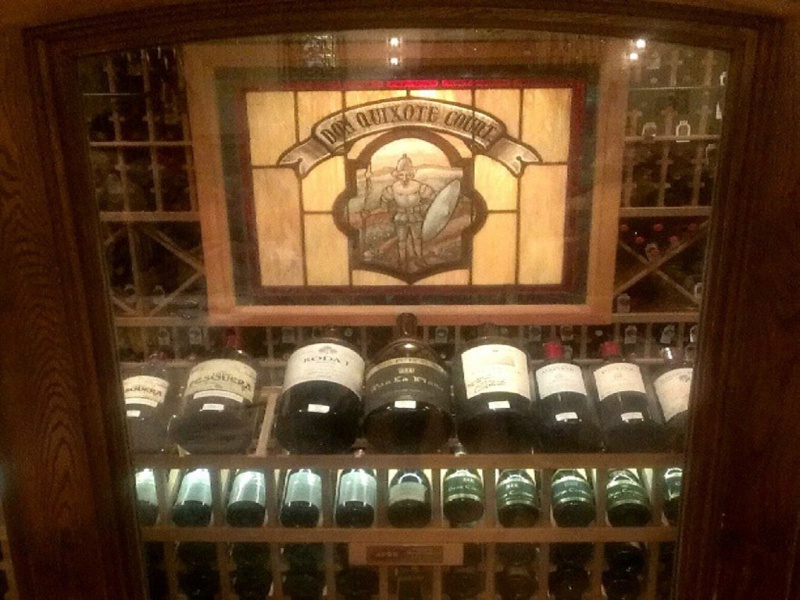wine: (91, 286, 704, 600)
